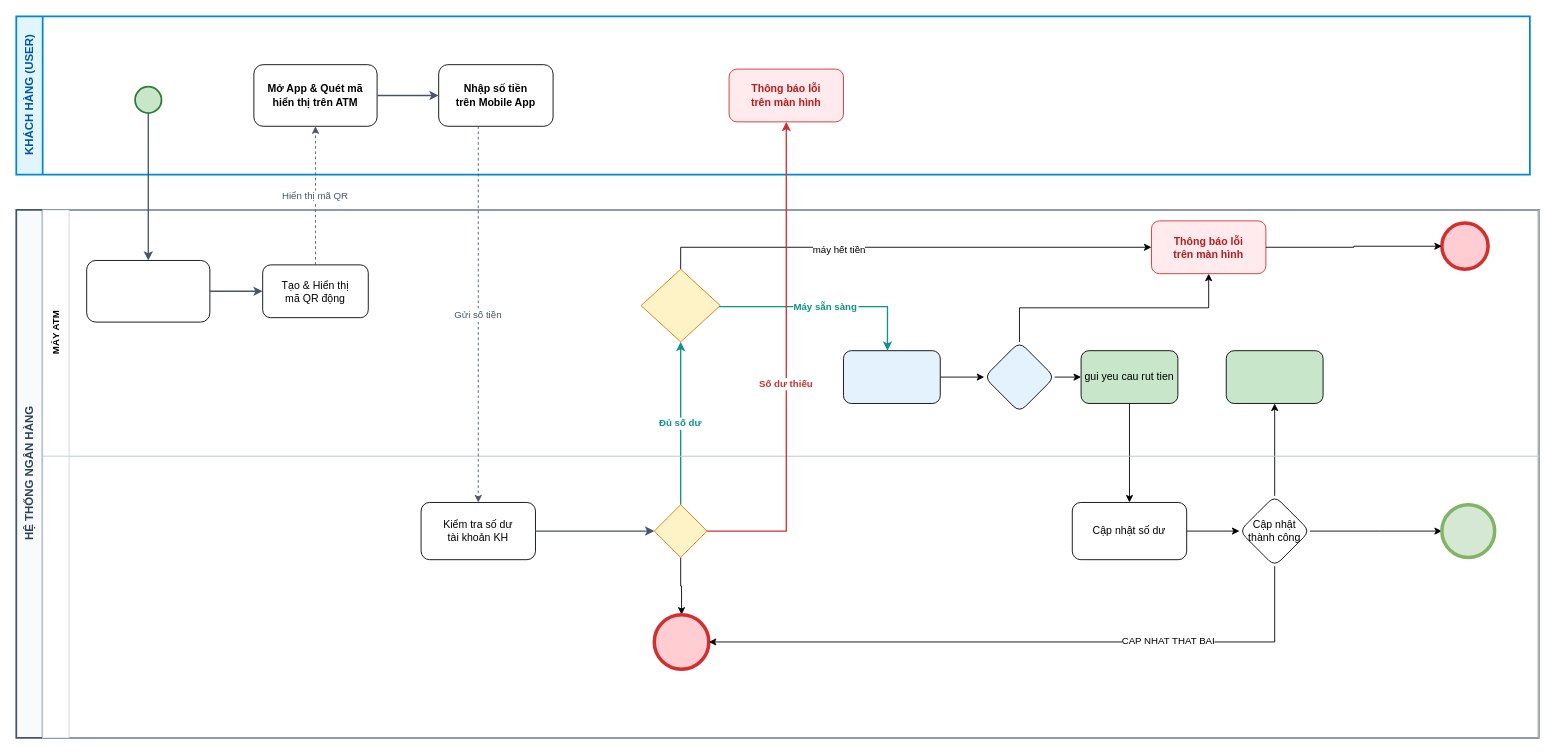
The diagram is 1554 pixels wide and 753 high, and some of its shapes have lost their labels. Here are the shapes that lost their labels. From the top down, the box of each, then its label:
(86, 260, 210, 322): Chọn "Rút tiền QR" trên màn hình ATM
(640, 268, 720, 342): Kiểm tra tiền trong máy
(843, 350, 940, 403): Yêu cầu nhập mã PIN
(983, 341, 1055, 412): check ma pin
(1225, 350, 1323, 403): TRẢ TIỀN MẶT
(42, 455, 1539, 738): CORE
